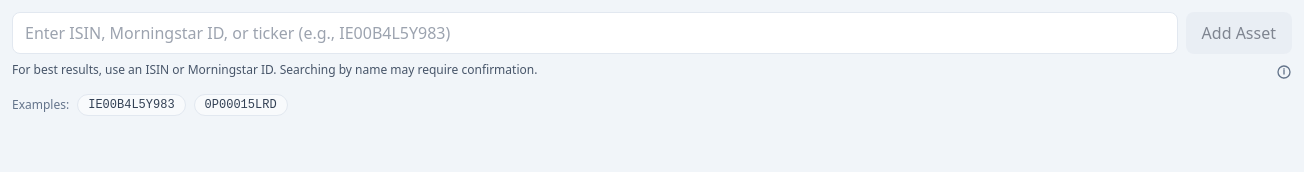
it: AssetInput › loading state › should disable input and button while loading
This screenshot has width=1304, height=172.
Type "IE00B4L5Y983" into the field named "Asset identifier input". click: point(595, 33)
box: [12,12,1178,54]
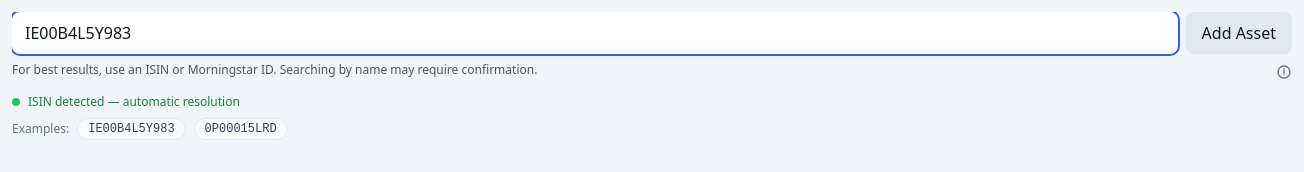
Click the button "Add Asset". click: point(1239, 33)
box: [1186,12,1292,54]
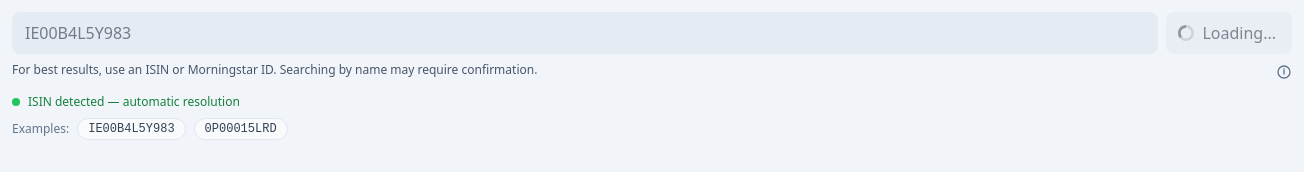
Expected: the field named "Asset identifier input" is disabled, [12,12,1158,54]
Expected: the button "Loading..." is disabled, [1166,12,1292,54]
